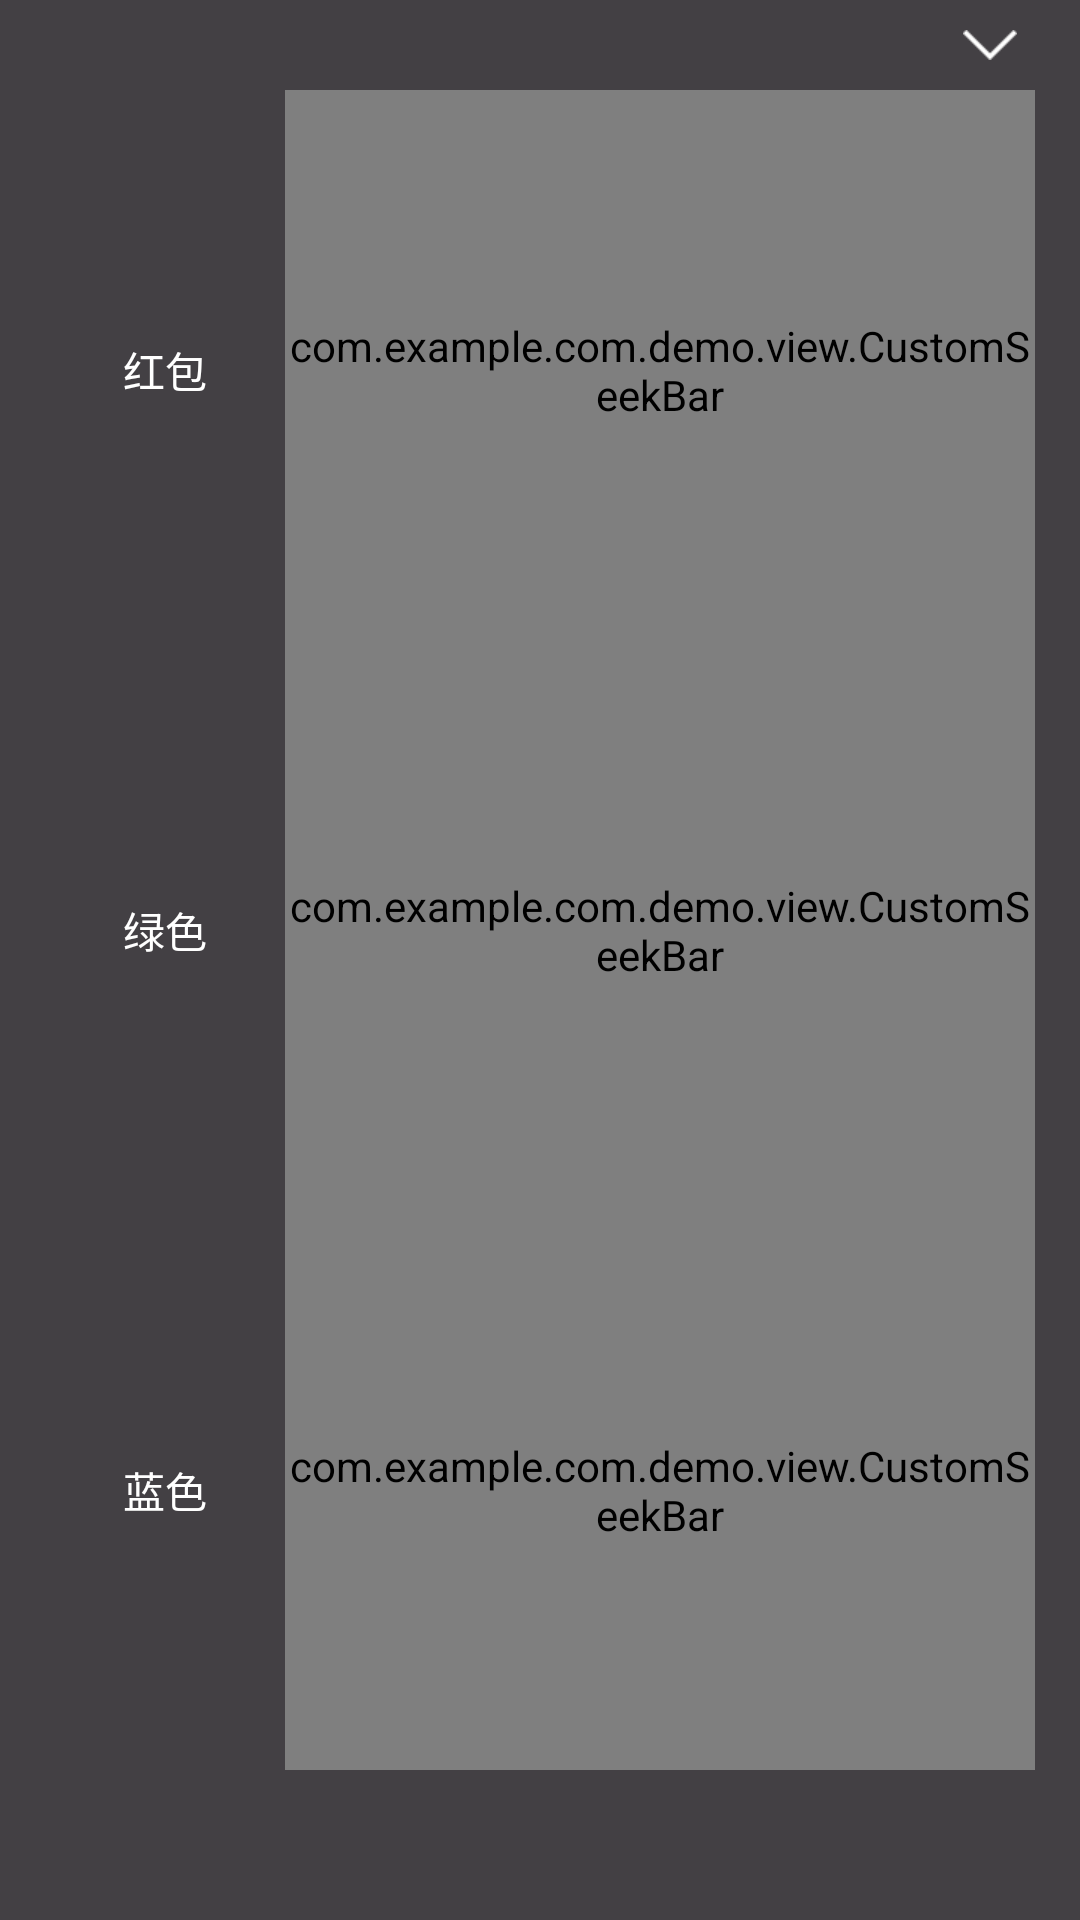

Icons on this 1080px×1920px Android screen, each with the point to tap as (x=x, y=y):
homepage parameter collapse: (x=990, y=45)
